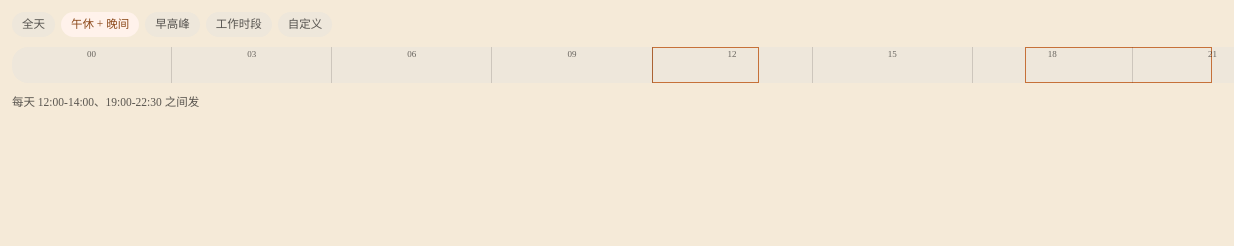
Test: WindowEditor（P14.B4：预设药丸是主路径，自定义段默认收起） › 点「自定义」展开逐段编辑器，之前的值原样保留（不清空）
What coordinates should you click on to do the following:
click the tab with test id "window-preset-custom"
I would click on:
 (305, 25)
Its box is [278,12,332,37].
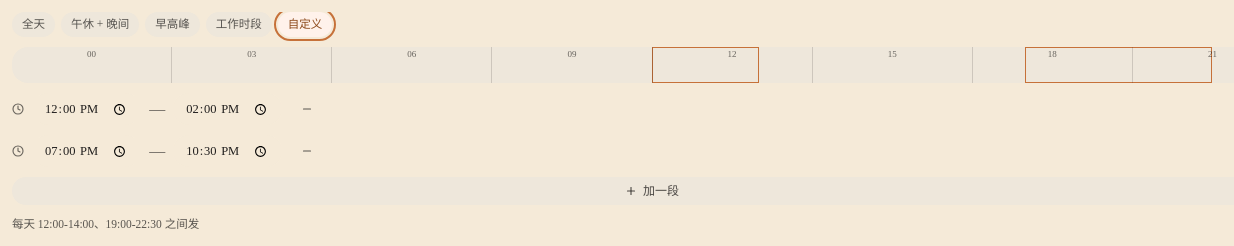
Expected: the time field with test id "window-start-0" holds "12:00", [32,93,141,125]
Expected: the time field with test id "window-start-1" holds "19:00", [32,135,141,167]
